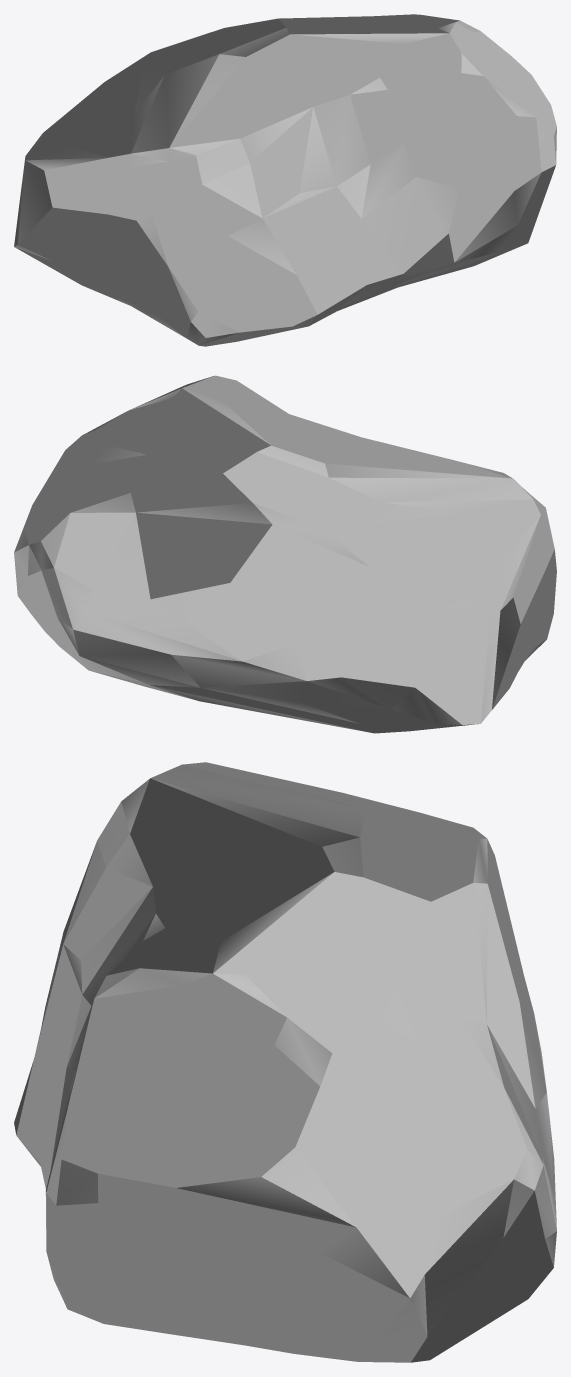
The model's file is Rock_3.glb.
3 views of the same model, one above another, from view 1: azimuth 30°, elevation 25°; view 2: azimuth 150°, elevation 25°; view 3: azimuth 270°, elevation 25° (orthographic). The views are drawn at different scales.
Parts seen in each view (by area): view 1: Rock_3; view 2: Rock_3; view 3: Rock_3.
Boxes of the visible parts, x1,y1,x2,y2 form: Rock_3: (14, 14, 556, 346); Rock_3: (14, 375, 556, 733); Rock_3: (14, 762, 556, 1362).
Size of the model in its own units: 0.4993 by 0.2338 by 0.3055.
Materials: 1 (1 with a texture image).
